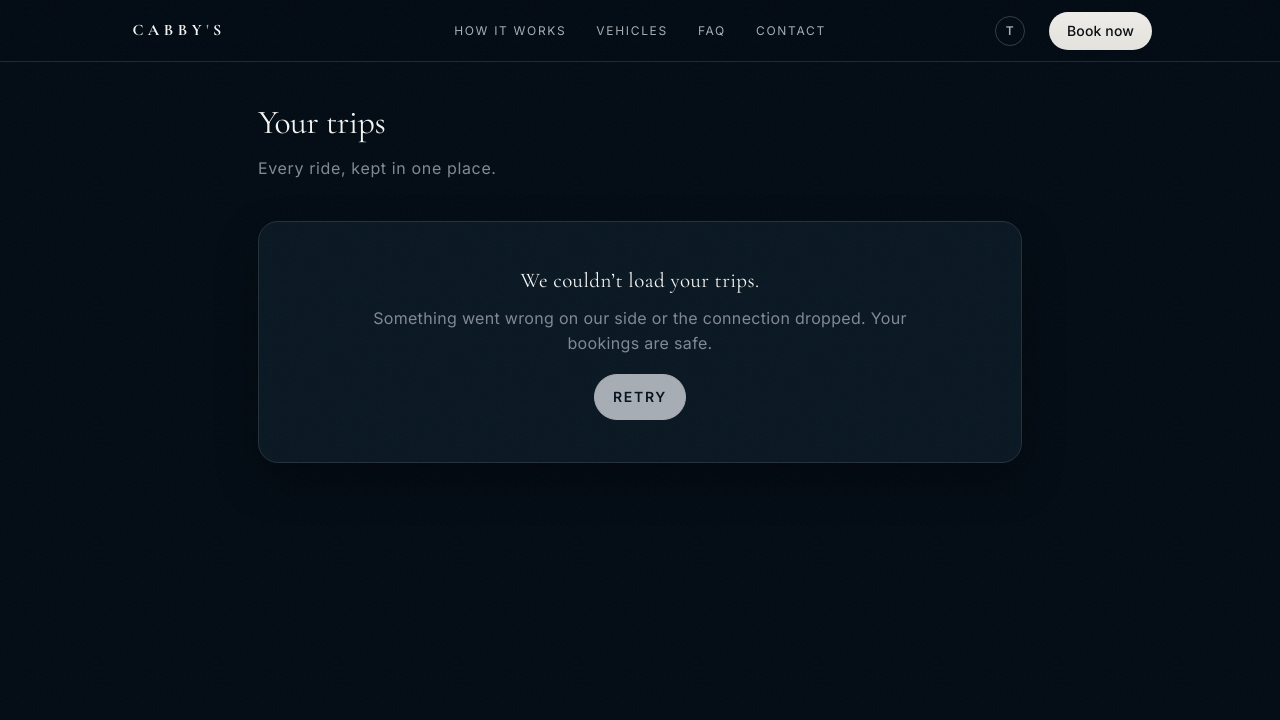
loading and failure › reports a failed read as a failure, never as 'no trips', and retries
Expected: the text "We couldn’t load your trips." is shown, [520,268,760,293]
Click the button "Retry" at (640, 397), box [594,374,686,420]
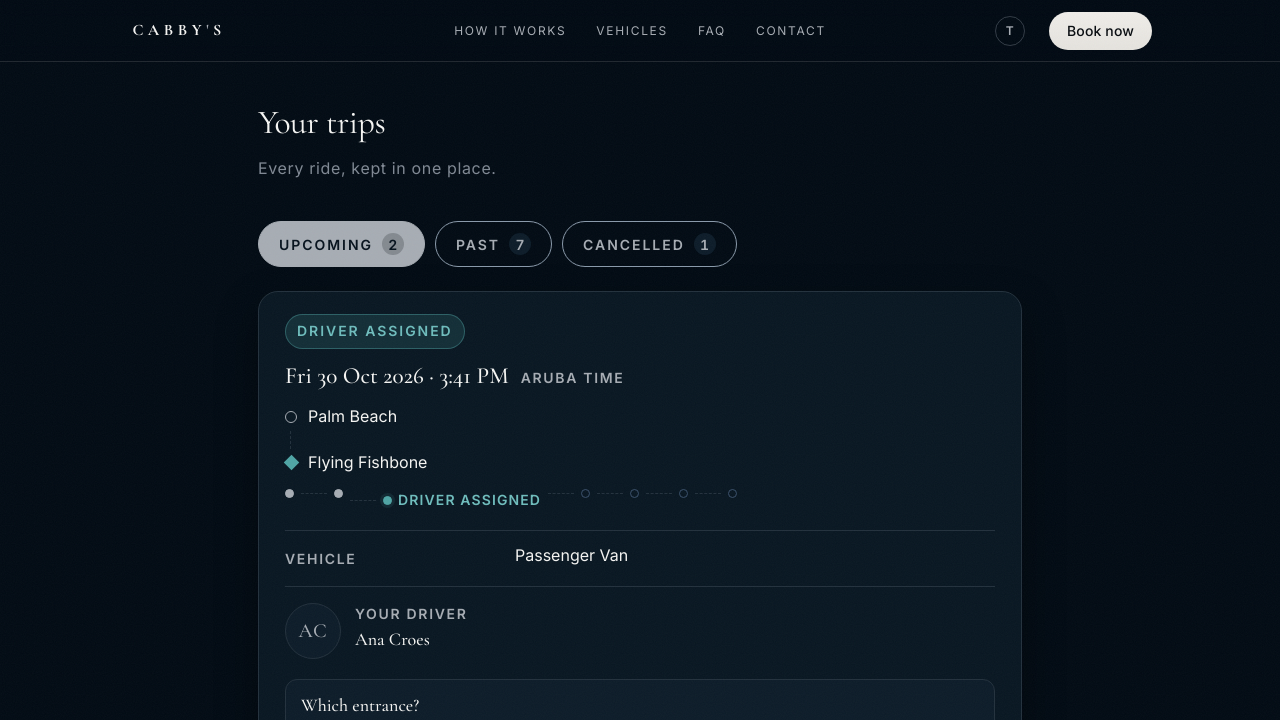
Expected: the element showing "Upcoming 2 Past 7 Cancelled 1" is shown, [258,221,737,267]
